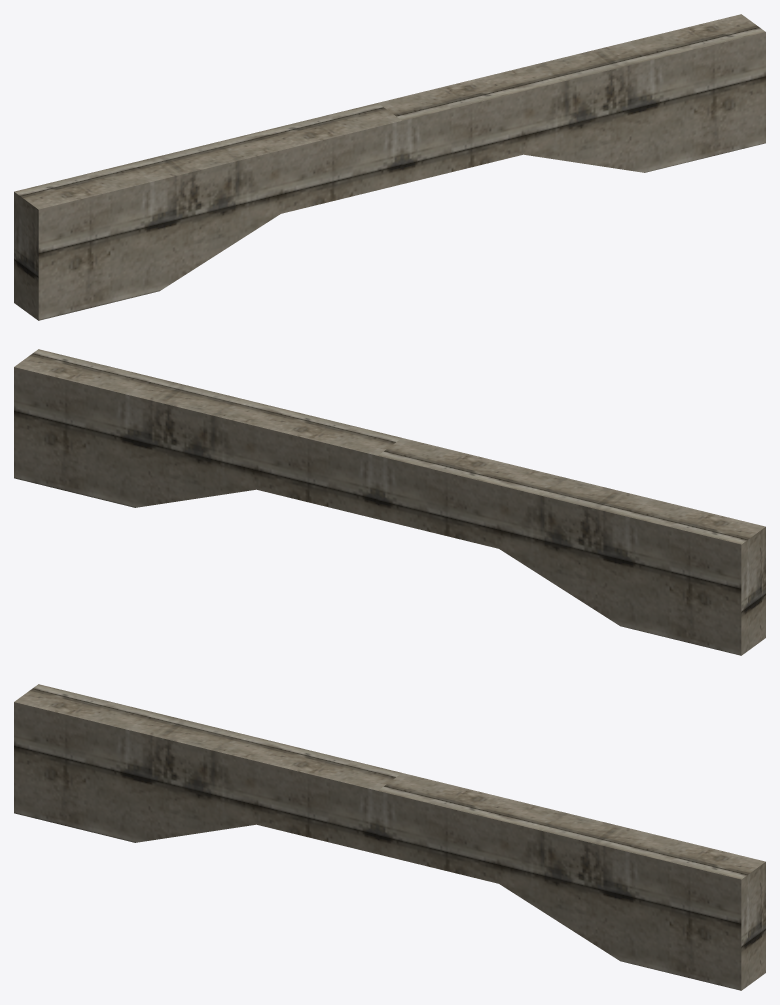
Rendered from MO_PILLAR_06.fbx.
3 renders of one model, top to bottom at view 1: azimuth 30°, elevation 25°; view 2: azimuth 150°, elevation 25°; view 3: azimuth 330°, elevation 25°, orthographic.
Parts seen in each view (by area): view 1: MO_PILLAR_06; view 2: MO_PILLAR_06; view 3: MO_PILLAR_06.
Boxes of the visible parts, x1,y1,x2,y2 form: MO_PILLAR_06: (14, 14, 765, 320); MO_PILLAR_06: (14, 349, 765, 655); MO_PILLAR_06: (14, 684, 765, 990).
Size of the model in its own units: 12 by 1.75 by 0.7.
